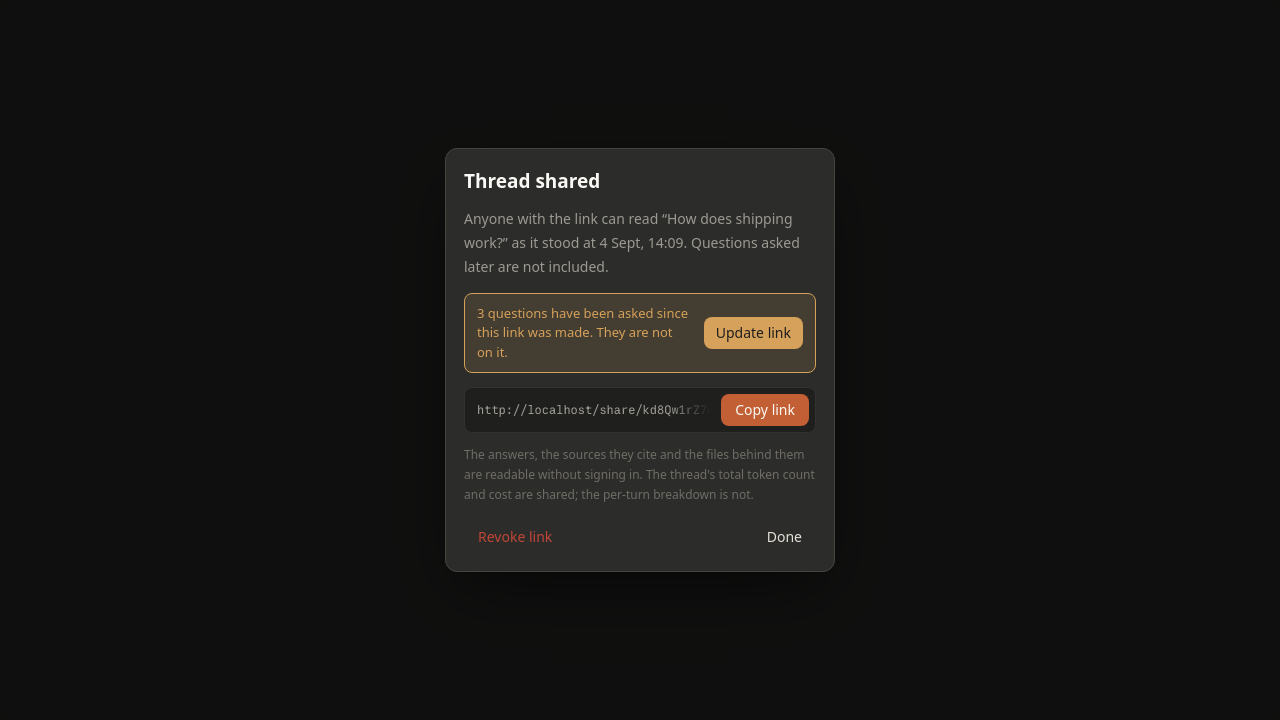
Scenario: ShareDialog › offers to update when the thread has moved on, and keeps the same link
Check: the text "3 questions have been asked since" is shown, box [477, 304, 688, 361]
What coordinates should you click on to do the following:
click the button "Update link"
I would click on:
 (753, 333)
Its box is [704, 317, 803, 349].
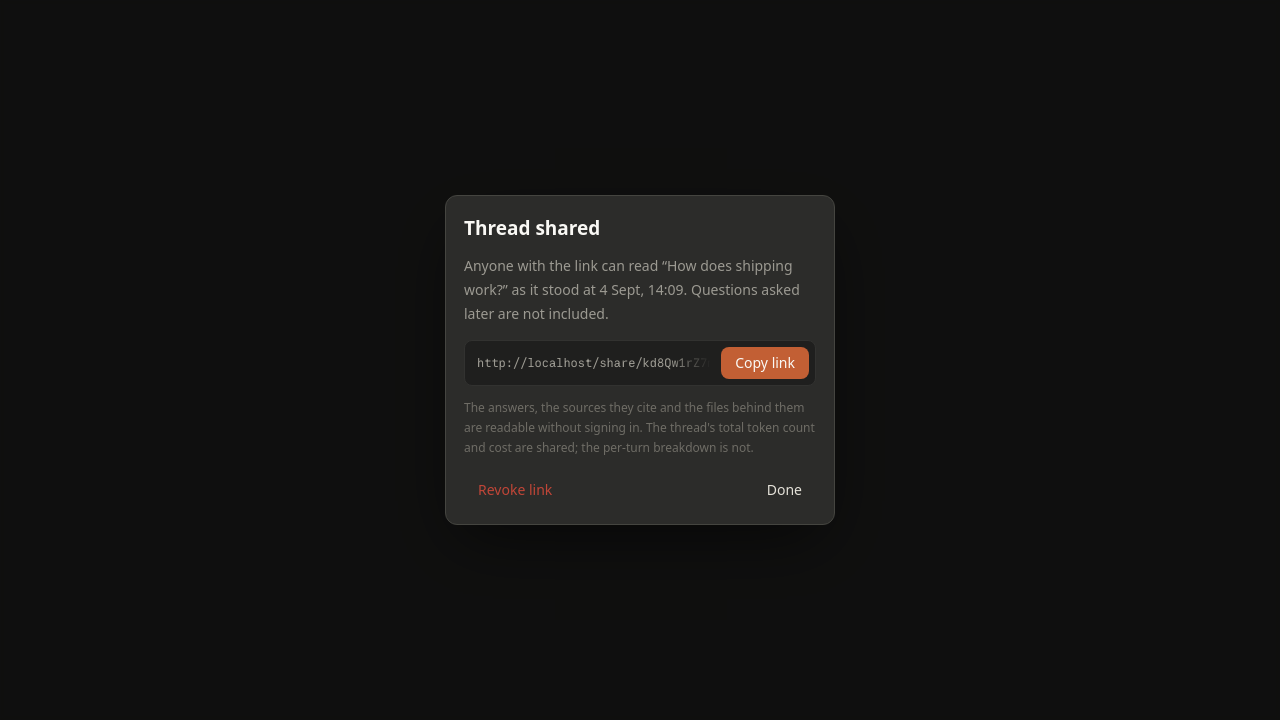
Check: the text "kd8Qw1rZ7mB3xN2pLcTvAg" is shown, box [477, 355, 801, 370]
Check: the text "questions have been asked since" is gone
